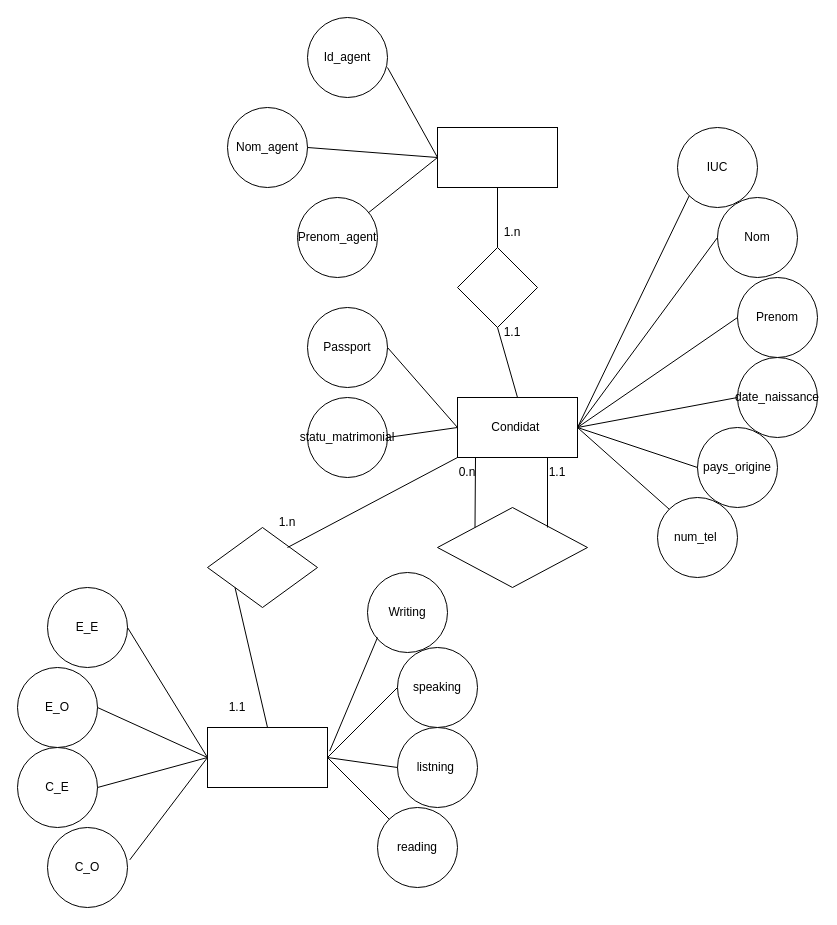
The diagram is 837 pixels wide and 925 high, and some of its shapes have lost their labels. The centre of each missing label's shape, as x and y in pixels:
"agent consultant" belongs at (x=497, y=157).
"marié" belongs at (x=512, y=547).
"obtenu" belongs at (x=262, y=567).
"suivre" belongs at (x=497, y=287).
"test_langue" belongs at (x=267, y=757).
